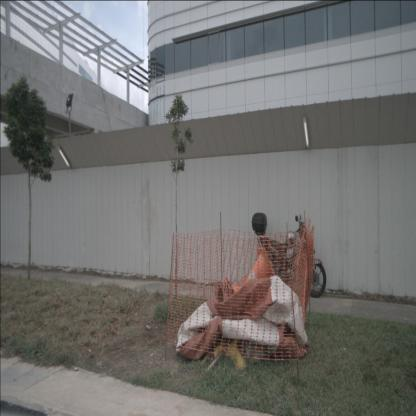cone: (214, 271, 257, 311), (242, 247, 275, 292)
